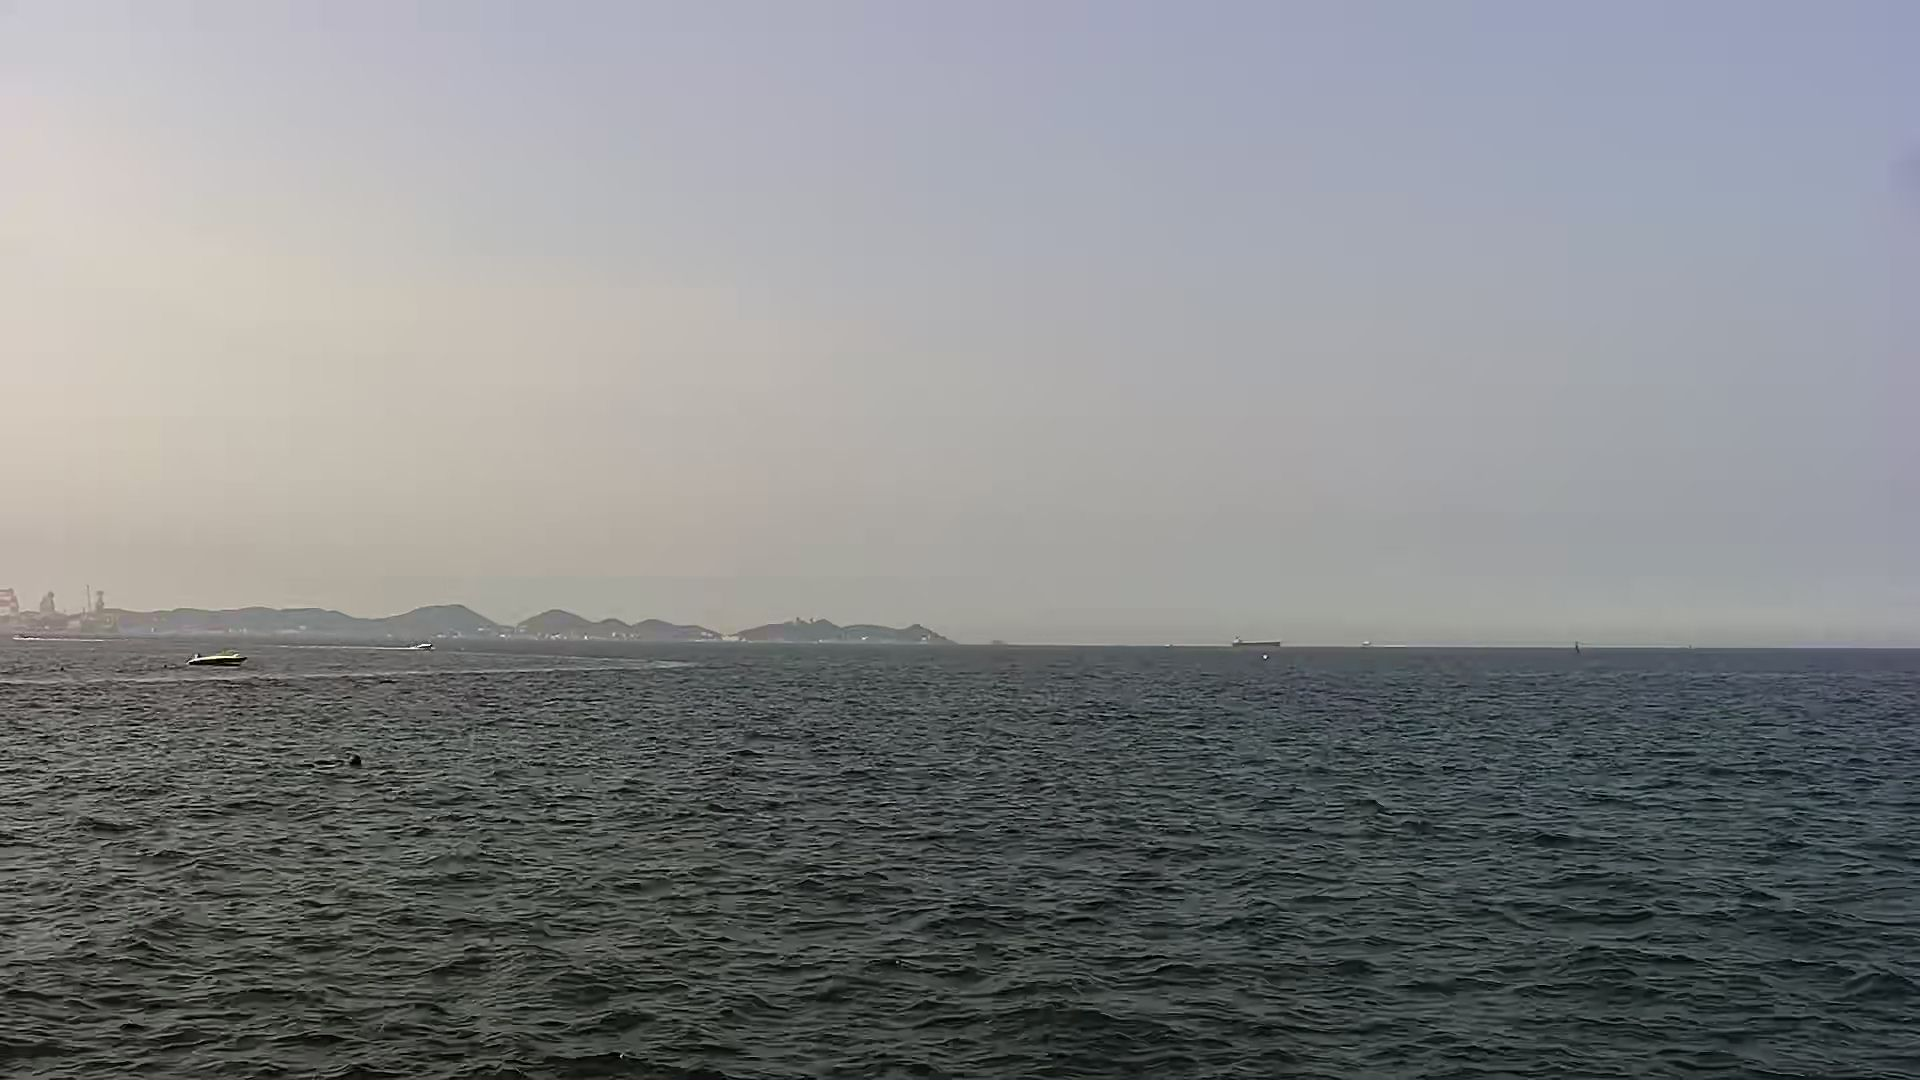boat: (187, 647, 247, 669)
